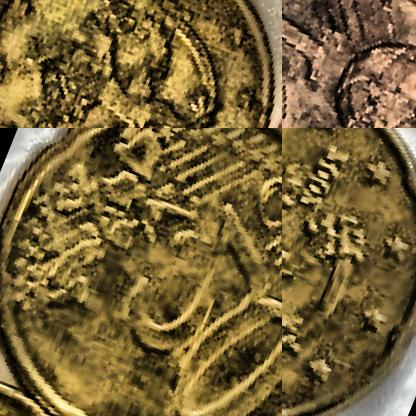coin: (0, 128, 281, 415), (282, 128, 415, 415), (0, 0, 281, 127), (282, 0, 415, 127)
